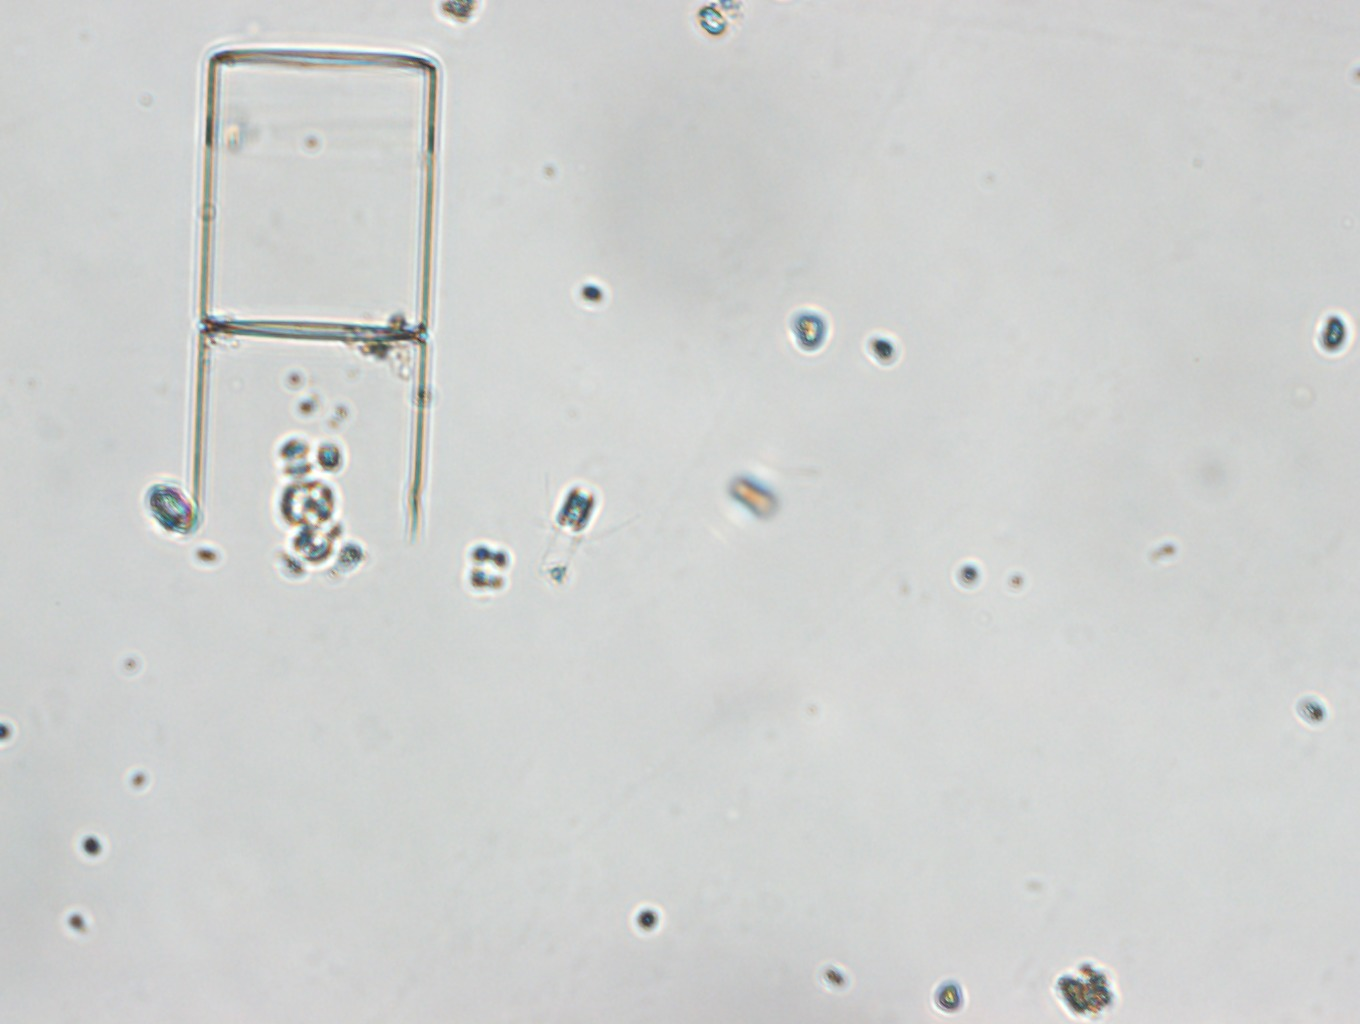guinardia flaccida: (188, 43, 446, 517)
